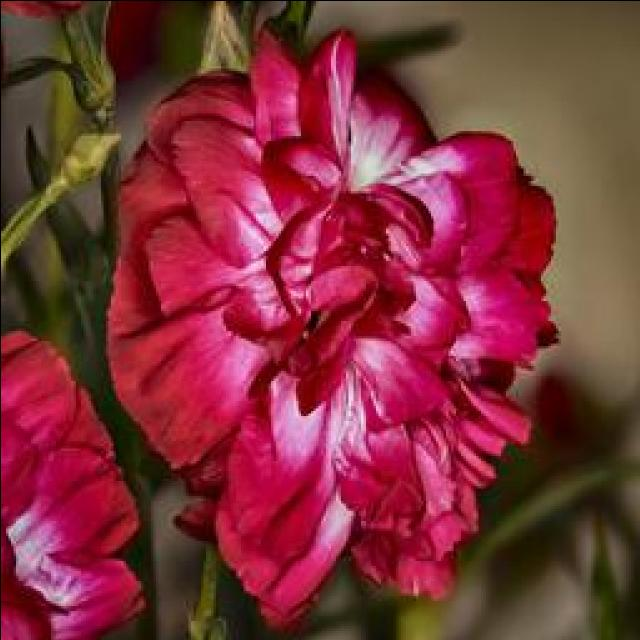carnation: (101, 27, 578, 624)
